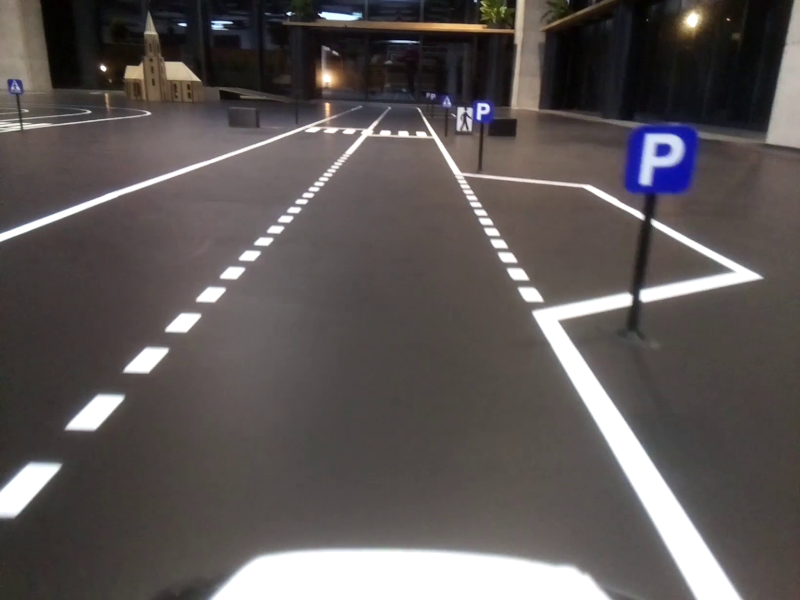park: (626, 124, 695, 198)
